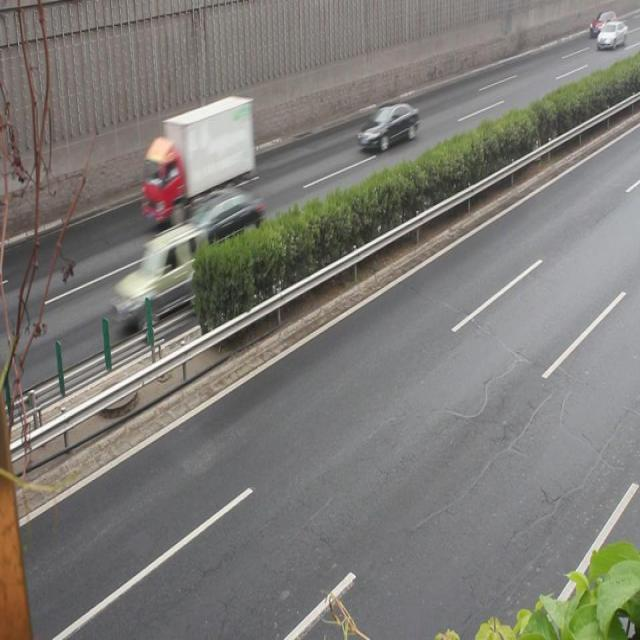bus: (141, 95, 254, 227)
car: (111, 222, 211, 331), (168, 184, 263, 271), (357, 101, 418, 152)
